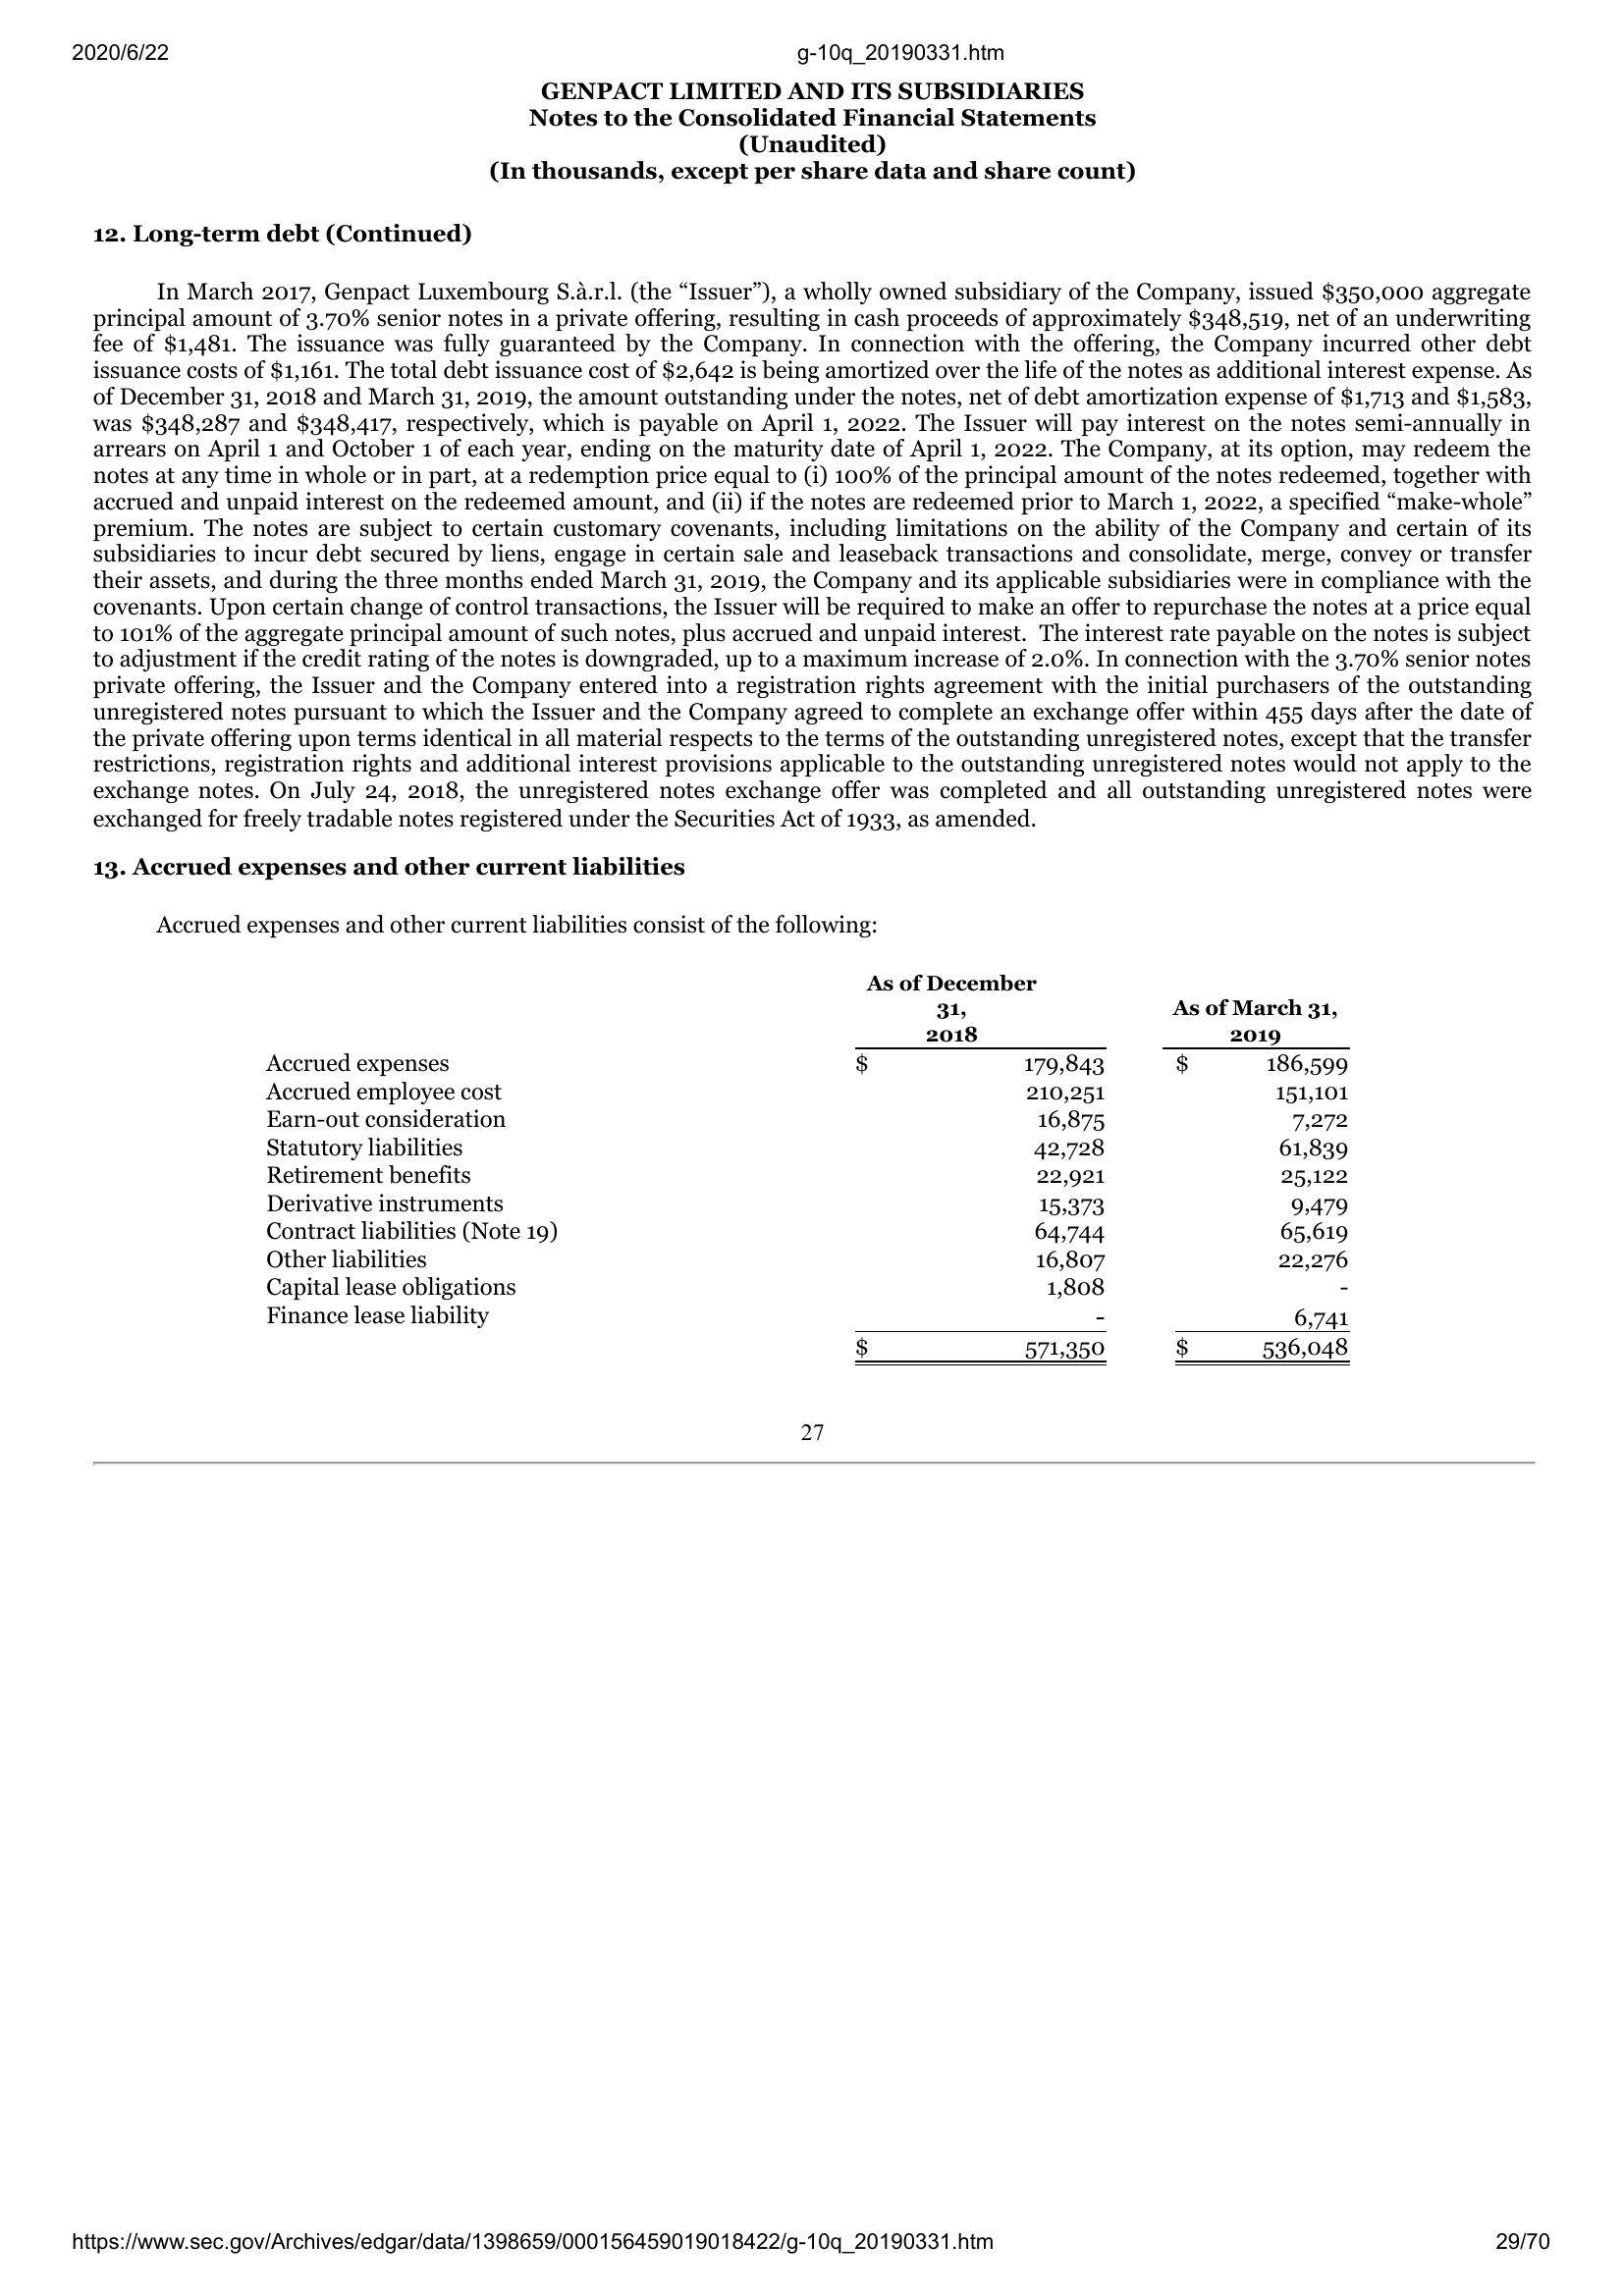table: (260, 965, 1361, 1374)
